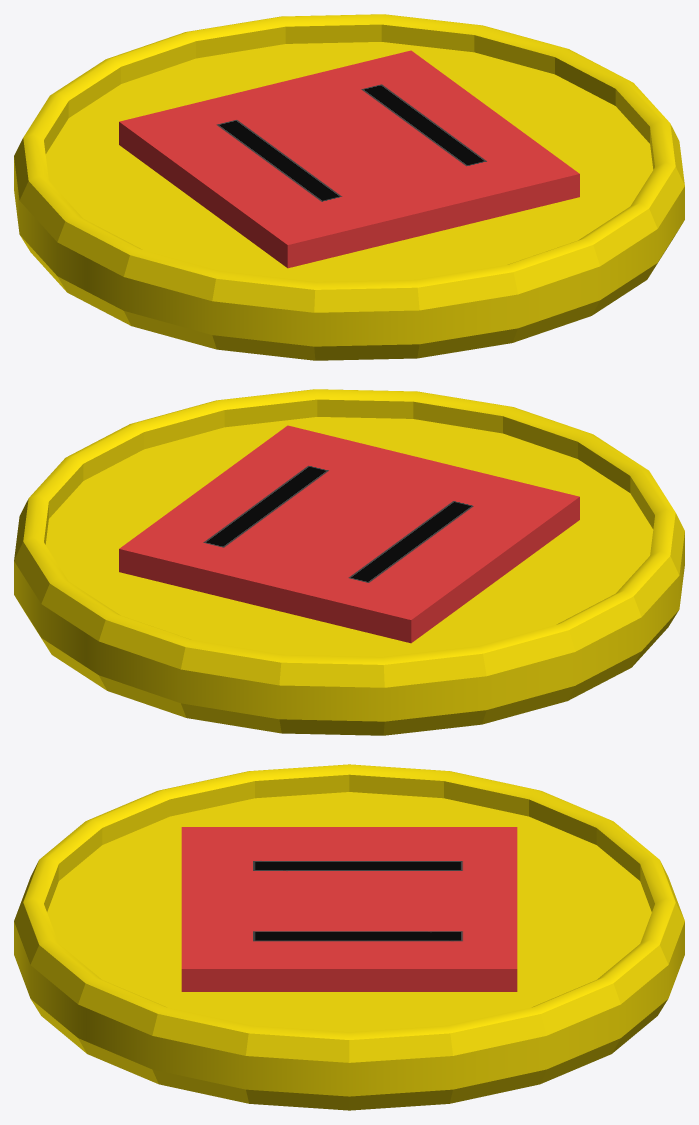
File: Gold.fbx
3 views of the same model, one above another, from view 1: azimuth 30°, elevation 25°; view 2: azimuth 150°, elevation 25°; view 3: azimuth 270°, elevation 25° (orthographic).
Visible parts, largest first — view 1: pCylinder2; view 2: pCylinder2; view 3: pCylinder2.
Part boxes in pixels (left/top/right/bottom): pCylinder2: left=14, top=14, right=684, bottom=360; pCylinder2: left=14, top=389, right=684, bottom=735; pCylinder2: left=14, top=764, right=684, bottom=1110.
Bounding box in the file's own units: 2 × 0.2626 × 2.
